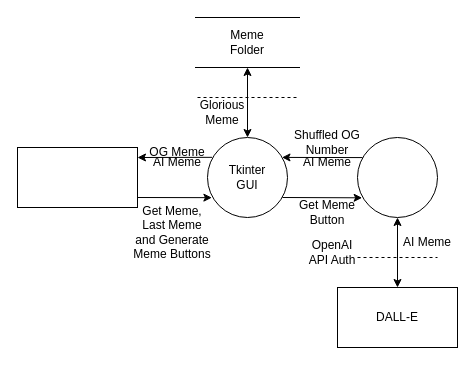
Image size: 475x365. Some labels were removed from this diagram. Each missing label, with the centre of its shape:
"Meme Generator" goes at point 397,177.
"User" goes at point 77,177.
